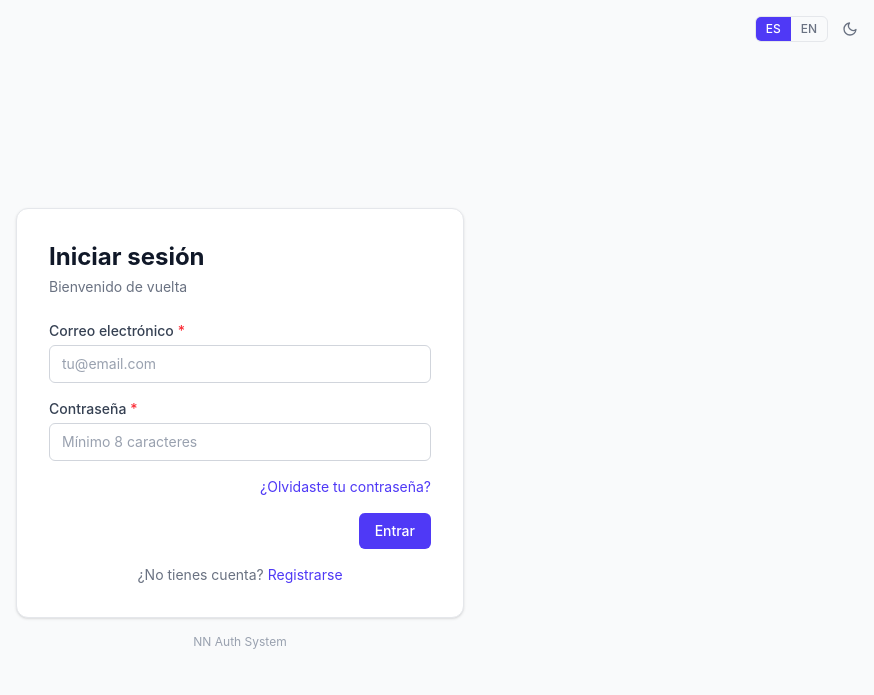
Test: LoginPage › shows error alert when login fails
The width and height of the screenshot is (874, 695).
Type "bad@test.com" into the field labelled "Correo electrónico*". click: (240, 364)
box: [49,345,431,383]
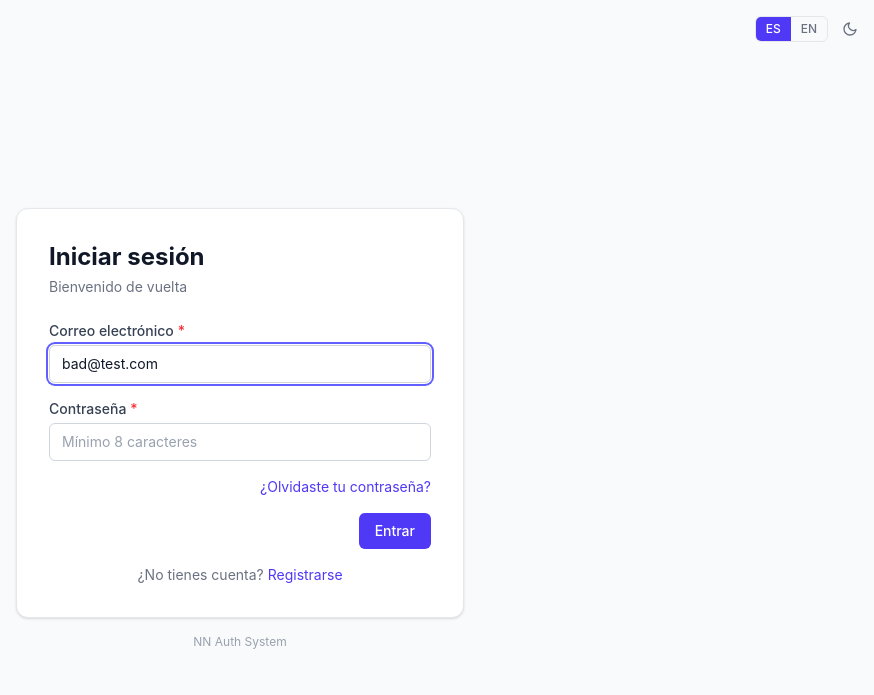
Type "wrong" into the password field labelled "Contraseña*". click: (240, 442)
box: [49,423,431,461]
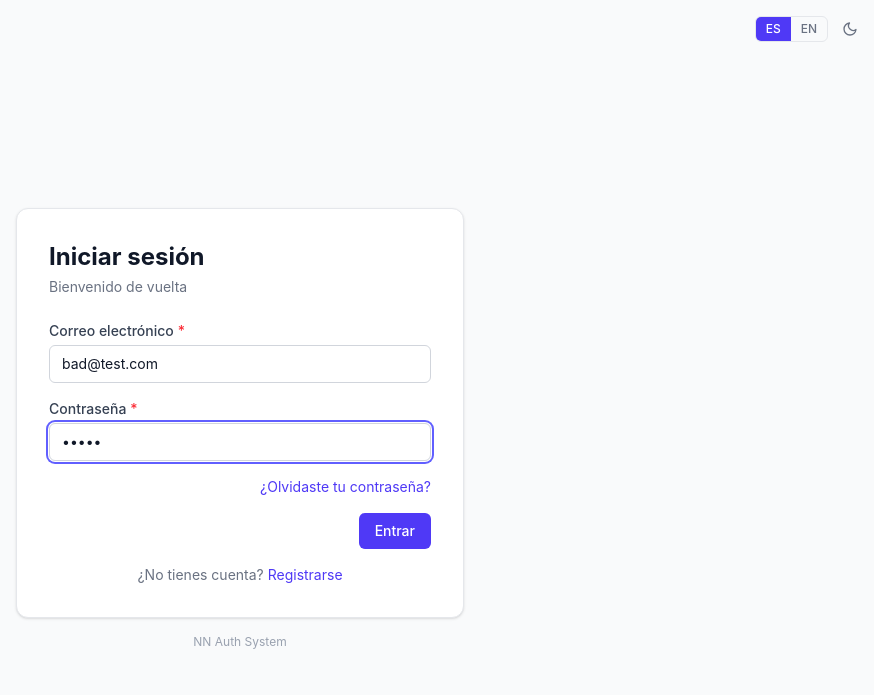
Click the button "Entrar". click: (395, 531)
box: [359,513,431,549]
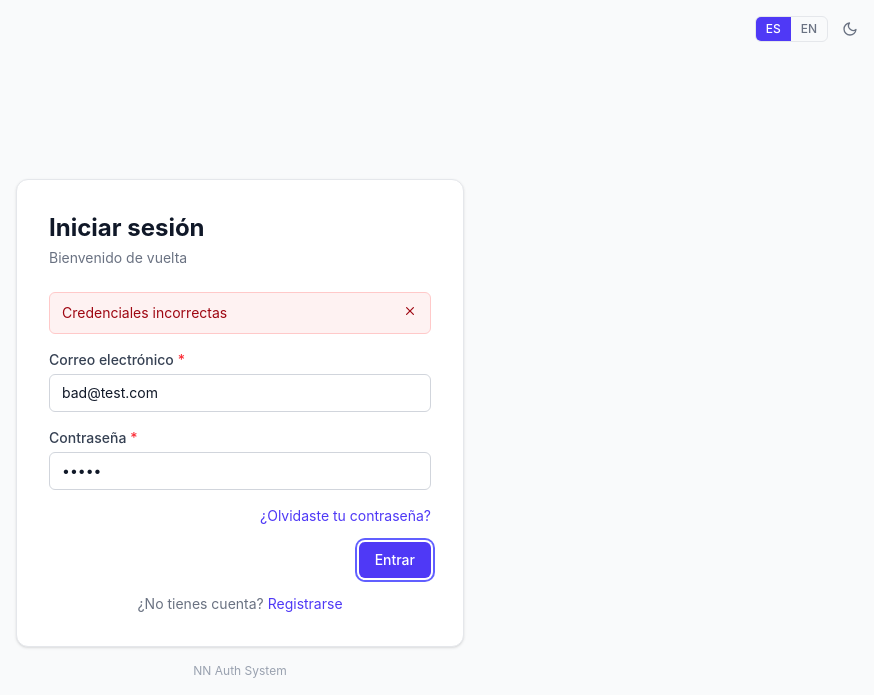
Expected: the message reads "Credenciales incorrectas", [62,304,227,321]
